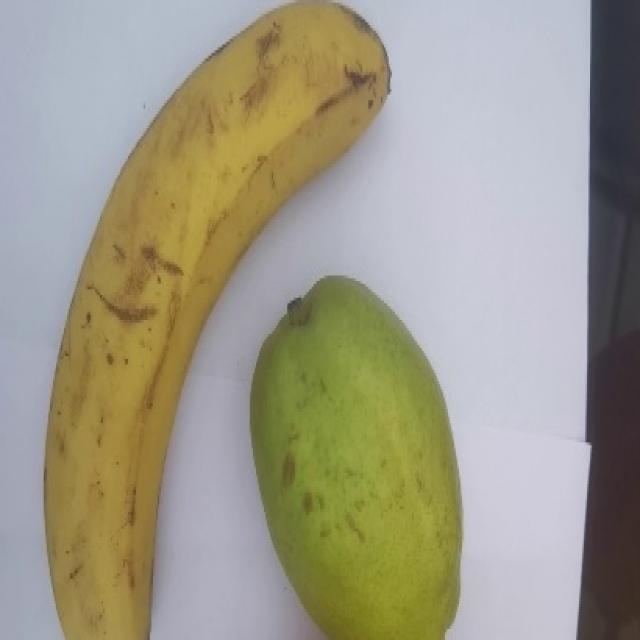Banana: (42, 0, 392, 638)
